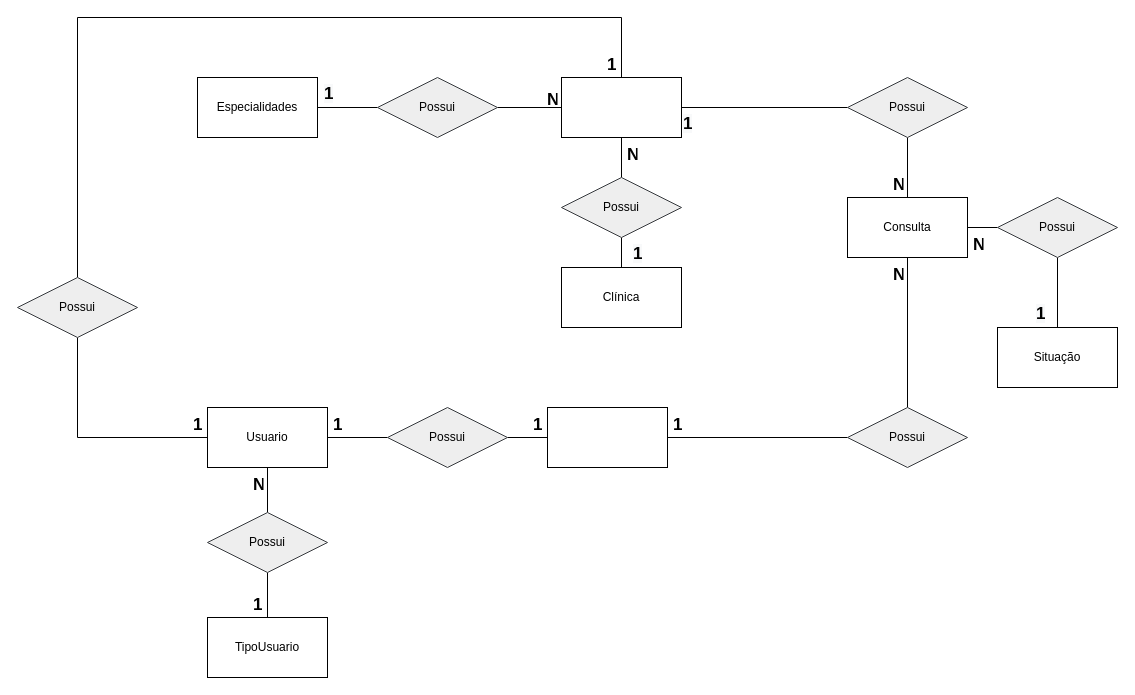
The diagram is 1135 pixels wide and 695 high, and some of its shapes have lost their labels. The shapes that lost their labels are listed below. From the top down, each one's centre as x and y in pixels, then its label:
(621,107): Médicos
(607,437): Paciente
